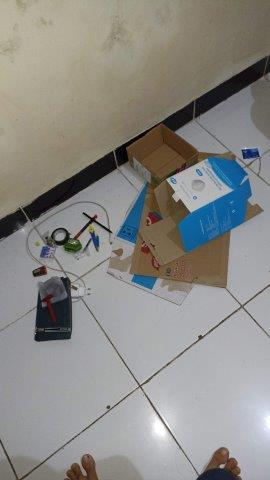kardus: (119, 153, 263, 302), (134, 157, 263, 258), (126, 124, 198, 187)
